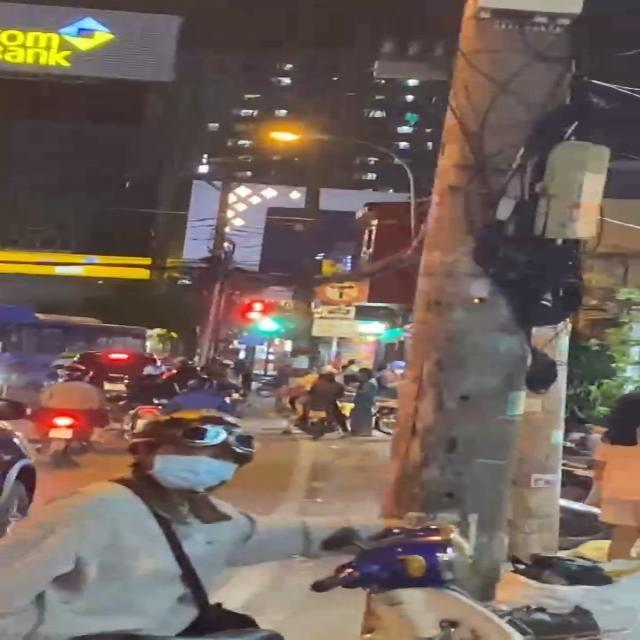137-cam-re-trai-va-re-phai: (317, 278, 367, 306)
